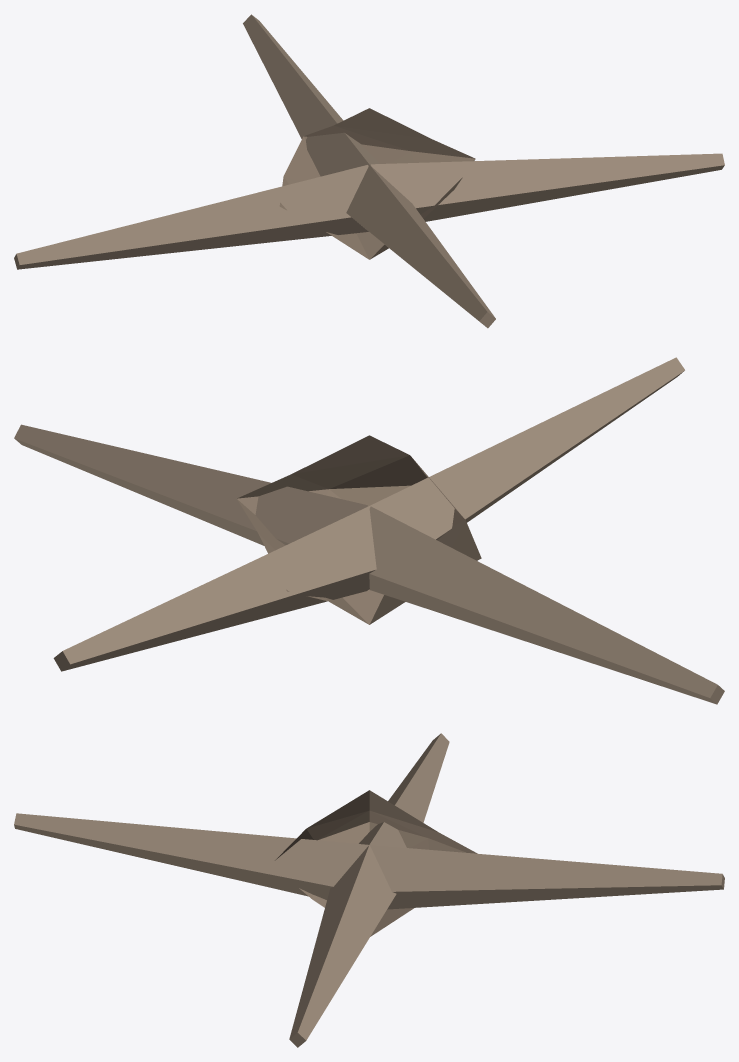
3 views of the same model, one above another, from view 1: azimuth 30°, elevation 25°; view 2: azimuth 150°, elevation 25°; view 3: azimuth 270°, elevation 25° (orthographic). The views are drawn at different scales.
Parts seen in each view (by area): view 1: lod0; view 2: lod0; view 3: lod0.
Boxes of the visible parts, x1,y1,x2,y2 form: lod0: (14,14,724,328); lod0: (14,357,724,704); lod0: (14,733,724,1047).
Size of what is drawn, in the model's own units: 0.9848 by 0.2253 by 0.9848.
